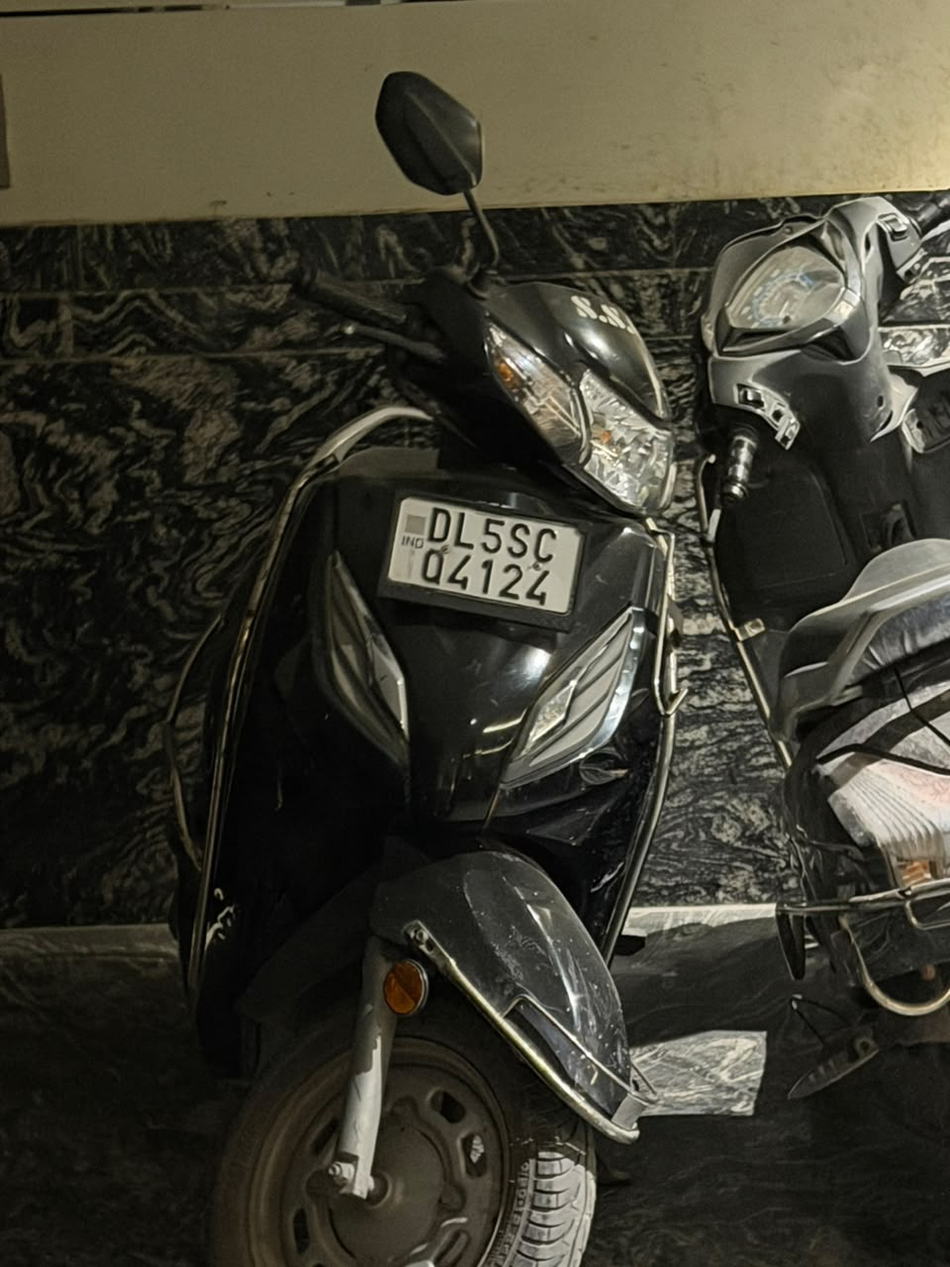vehicle: (381, 496, 582, 616)
